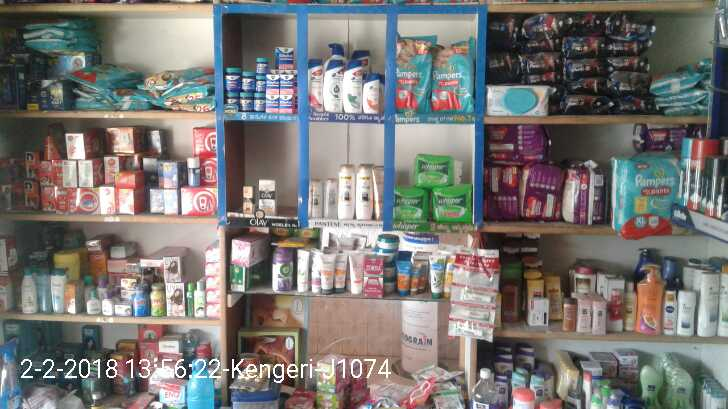beauty: (341, 62, 364, 113), (324, 56, 339, 118), (255, 176, 280, 212), (363, 76, 386, 114)
pharmacy: (616, 157, 676, 234), (432, 42, 477, 114), (398, 32, 429, 116), (407, 152, 462, 184), (429, 185, 476, 222), (348, 165, 376, 223), (393, 184, 430, 223), (336, 164, 353, 217), (251, 53, 266, 95), (274, 44, 294, 68), (309, 179, 322, 215), (224, 65, 240, 92), (217, 92, 239, 111), (237, 68, 253, 93), (277, 92, 296, 113), (263, 71, 279, 93), (277, 73, 295, 91), (263, 95, 278, 115), (250, 97, 268, 110), (240, 93, 251, 112)
